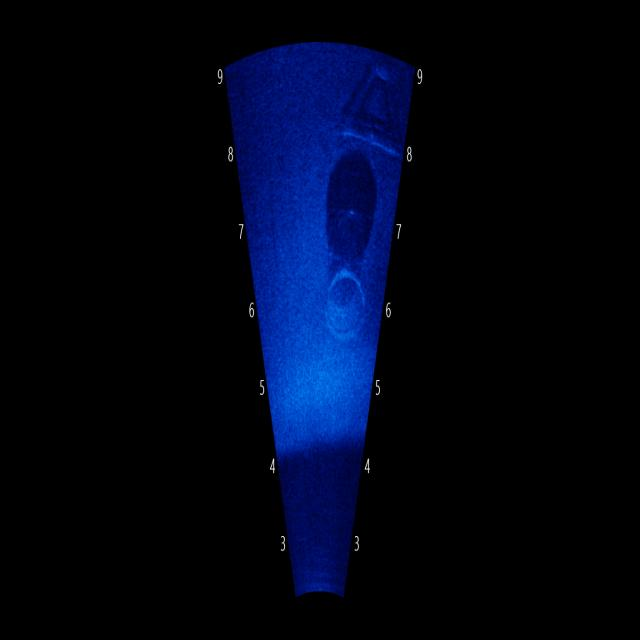circle: (312, 234, 374, 365)
triangle: (316, 56, 405, 164)
